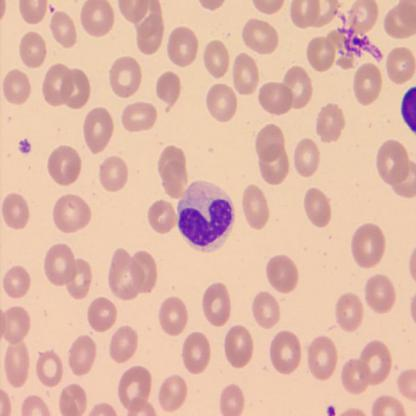Band Neutrophil: (174, 177, 238, 253)
